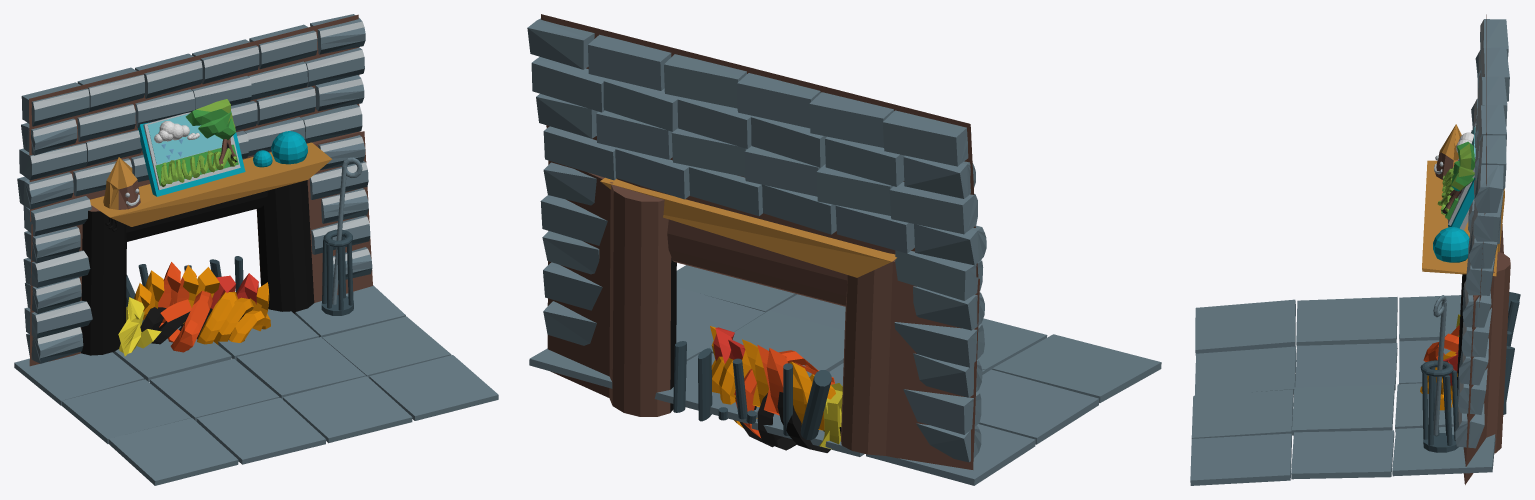
Rendered from FirePlace.glb.
3 views of the same model, side by side, from view 1: azimuth 30°, elevation 25°; view 2: azimuth 150°, elevation 25°; view 3: azimuth 270°, elevation 25° (orthographic). The views are drawn at different scales.
Parts seen in each view (by area): view 1: node_MeshObject-278193152-PolyPaper21, node_MeshObject865965056-PolyPaper17; view 2: node_MeshObject-278193152-PolyPaper21, node_MeshObject865965056-PolyPaper17; view 3: node_MeshObject-278193152-PolyPaper21, node_MeshObject865965056-PolyPaper17.
Part boxes in pixels (left/top/right/bottom): node_MeshObject-278193152-PolyPaper21: left=14, top=14, right=498, bottom=485; node_MeshObject865965056-PolyPaper17: left=17, top=24, right=372, bottom=363; node_MeshObject-278193152-PolyPaper21: left=527, top=14, right=1161, bottom=485; node_MeshObject865965056-PolyPaper17: left=531, top=34, right=986, bottom=462; node_MeshObject-278193152-PolyPaper21: left=1190, top=14, right=1520, bottom=485; node_MeshObject865965056-PolyPaper17: left=1420, top=50, right=1506, bottom=448.
Size of the model in its own units: 1.62 by 1.32 by 1.25.
